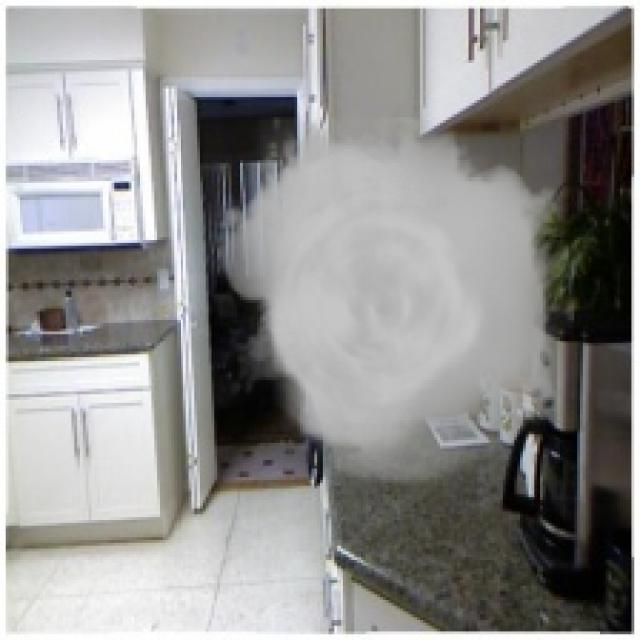smoke: (206, 117, 574, 486)
